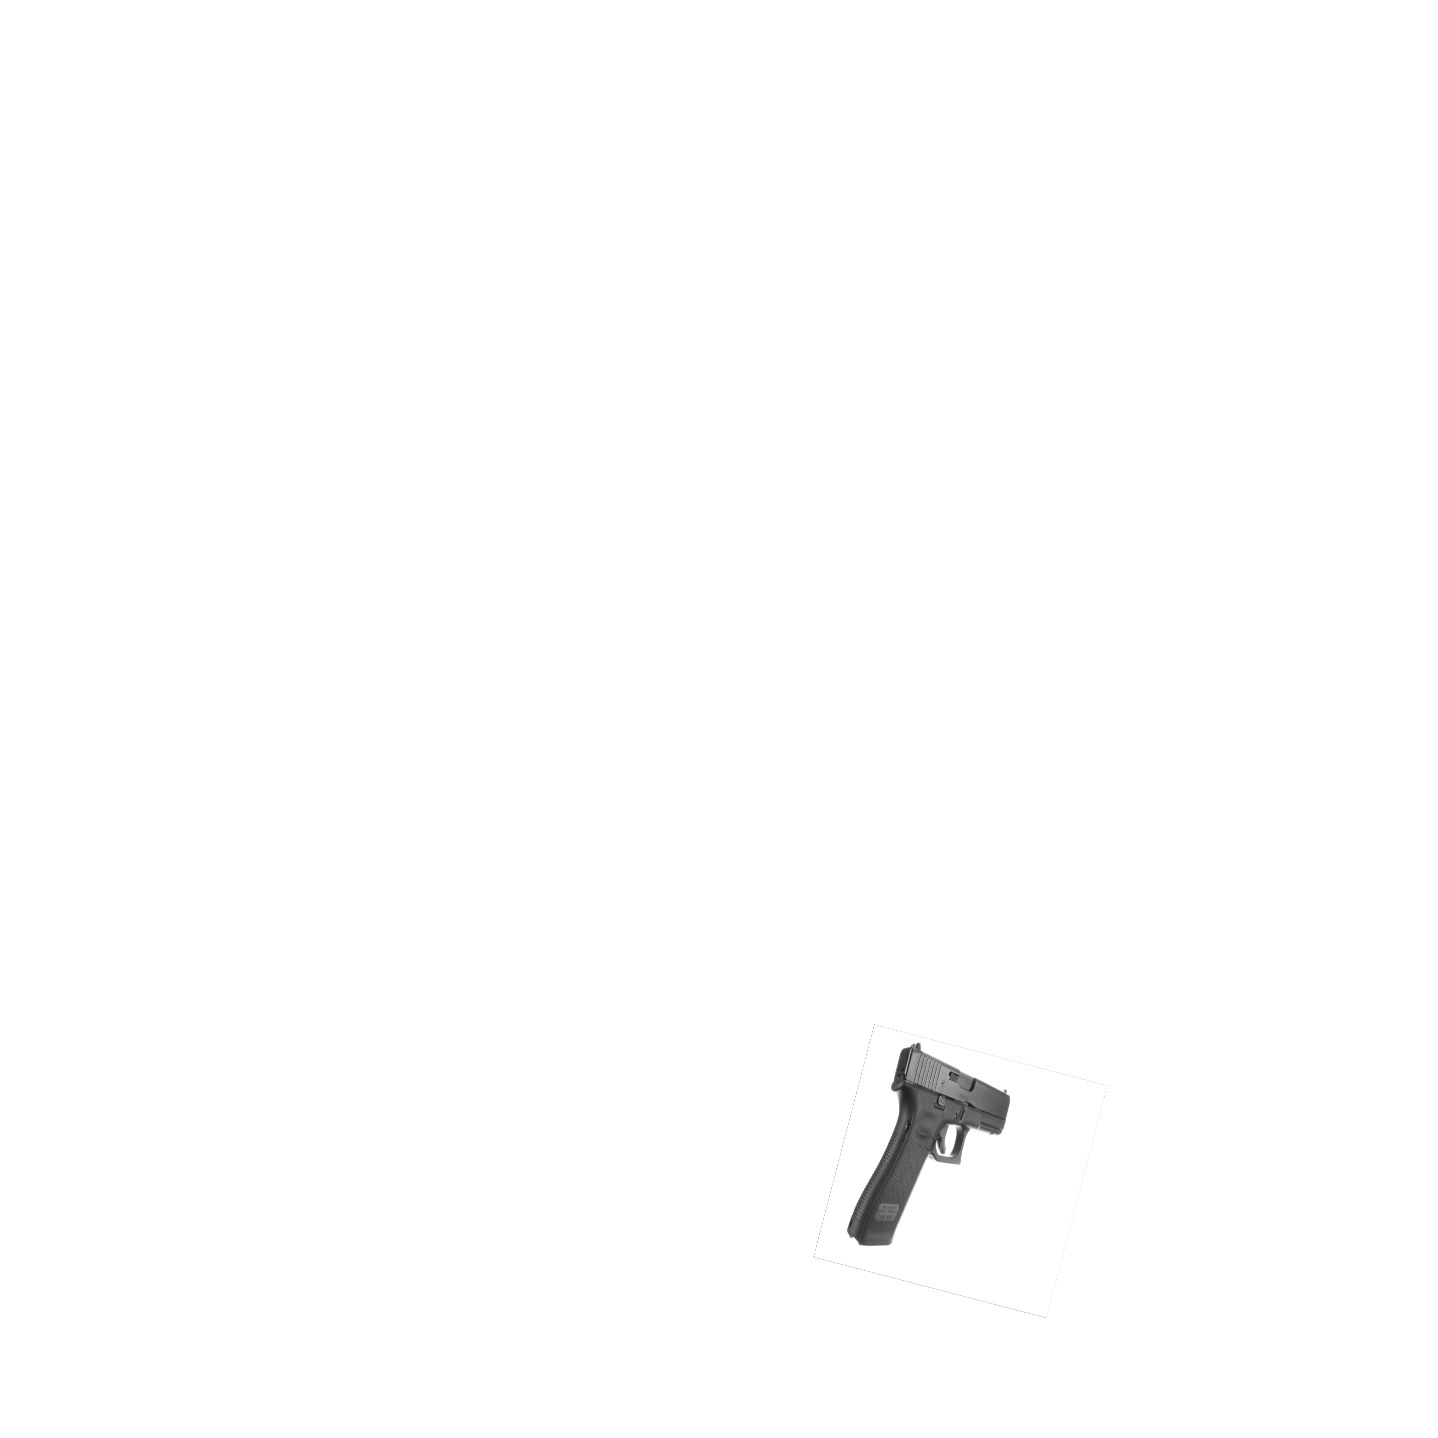gun: (847, 1039, 1013, 1247)
